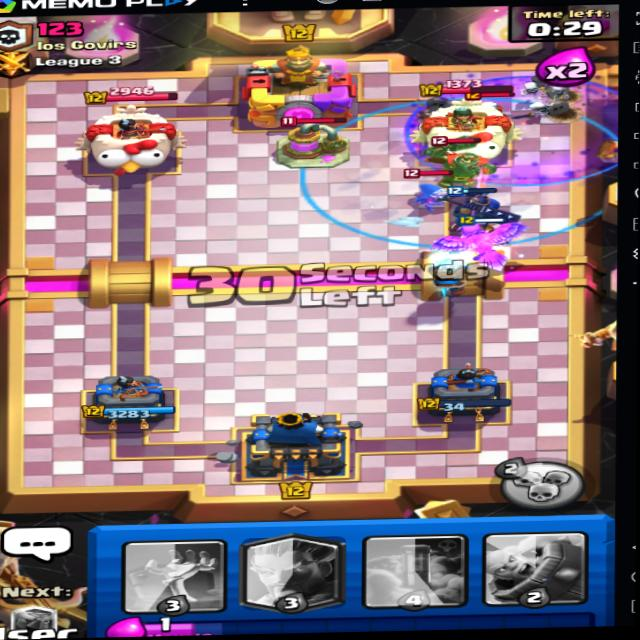Bandit: (383, 173, 460, 224)
Marcher: (475, 90, 507, 136)
Pump: (251, 112, 350, 173)
skellyking: (437, 143, 506, 198)
